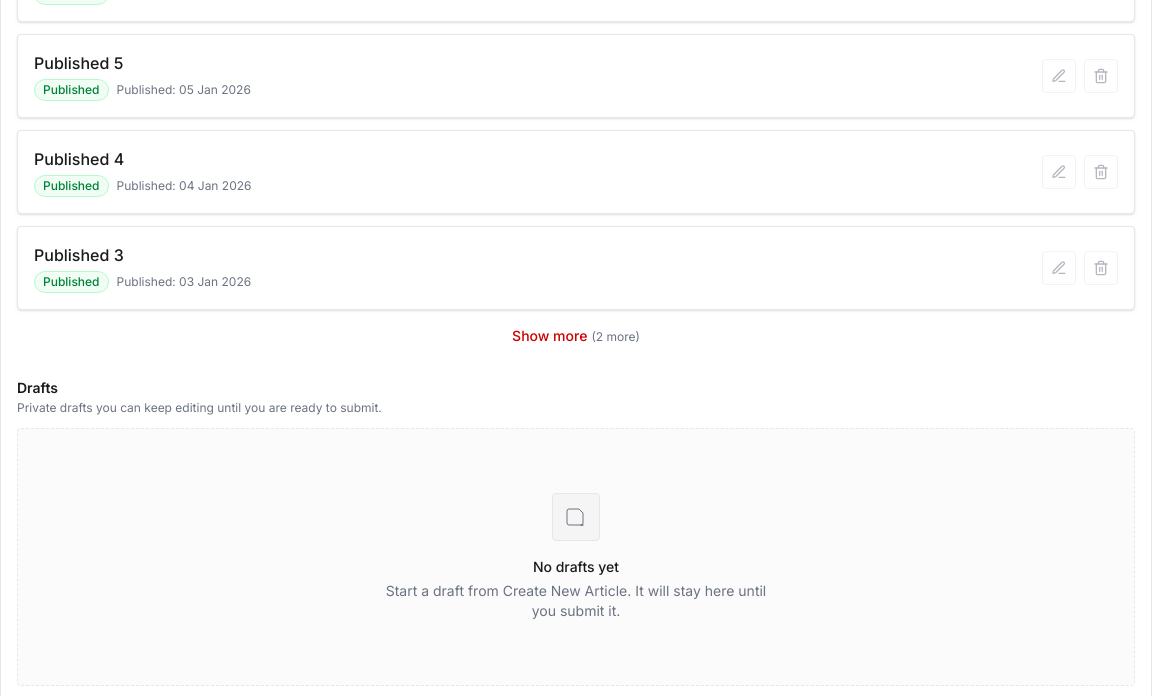
Test case: MyArticlesList › shows the first five submitted articles and loads five more on Show more
(page scrolled)
Expected: the element with test id "article-card-pub3" is shown, [17,226,1135,310]
Click the button with test id "show-more-articles": (576, 336) [512,326,640,346]
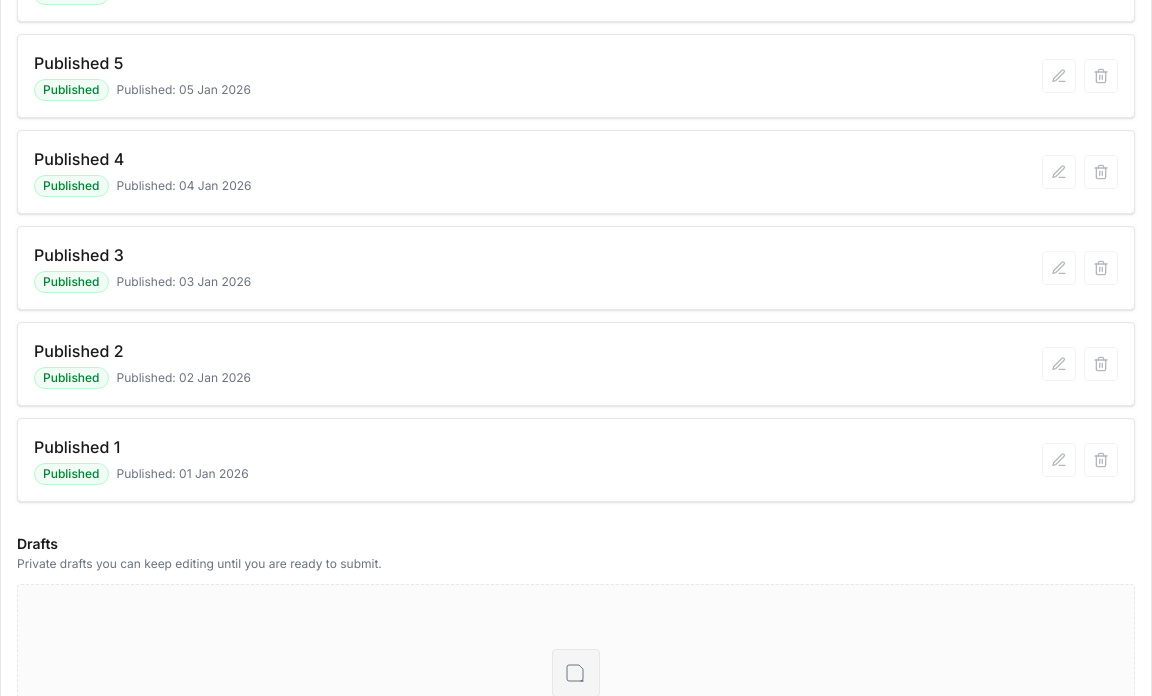
Now the element with test id "article-card-pub2" is shown, box [17,322,1135,406]
Now the element with test id "article-card-pub1" is shown, box [17,418,1135,502]
Now the button with test id "show-more-articles" is gone
